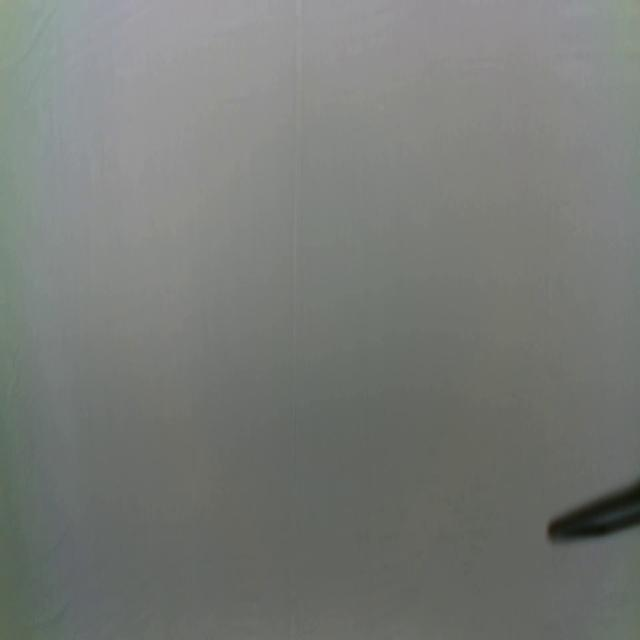crease: (288, 1, 304, 640)
